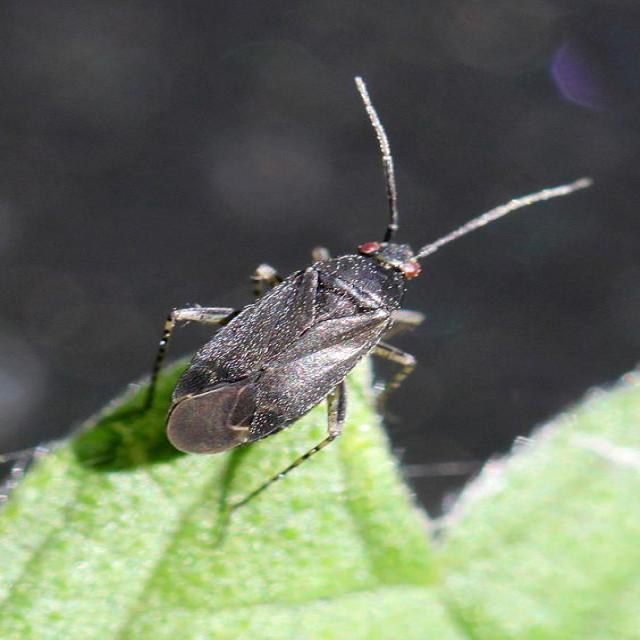Miridae-Adult-: (128, 70, 567, 516)
